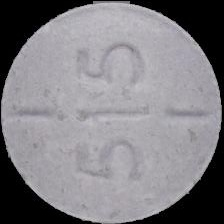68788-9162: (0, 0, 224, 224)
